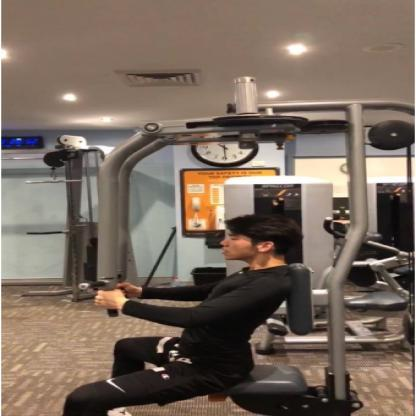chest fly machine: (17, 86, 416, 416)
